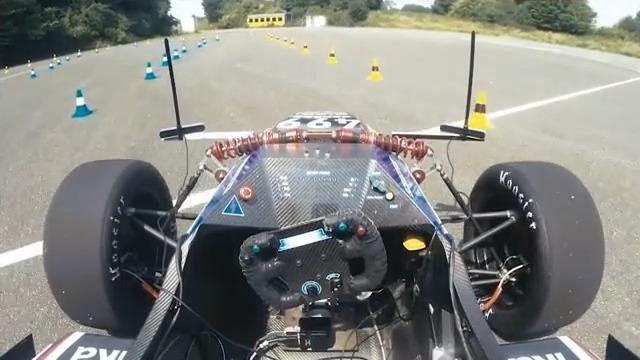blue_cone: (68, 88, 94, 119), (143, 59, 157, 80), (161, 51, 170, 67), (172, 48, 181, 61), (29, 68, 37, 80)
yellow_cone: (470, 88, 492, 130), (366, 59, 384, 81), (325, 47, 339, 66)
